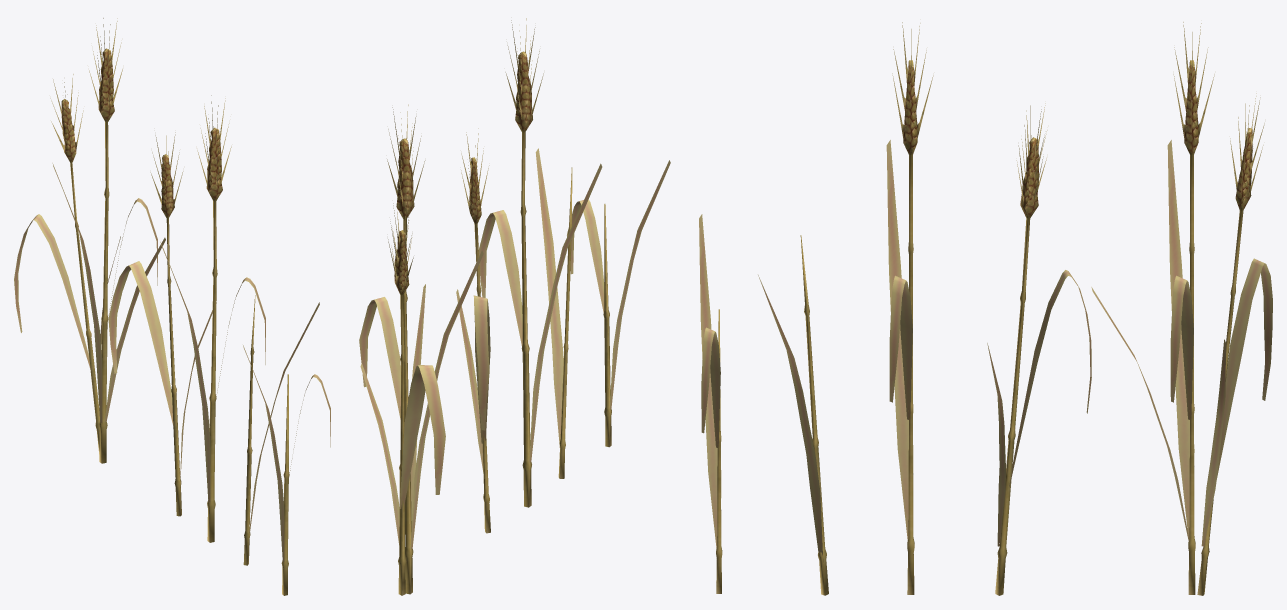
Rendered from realistic_wheat.glb.
The picture shows the model from 3 angles, left to right: view 1: azimuth 30°, elevation 25°; view 2: azimuth 150°, elevation 25°; view 3: azimuth 270°, elevation 25°; orthographic projection. The views are drawn at different scales.
Visible parts, largest first — view 1: Plane.003, Plane.001, Plane, Plane.004, Plane.002; view 2: Plane.003, Plane, Plane.001, Plane.002, Plane.004; view 3: Plane.003, Plane, Plane.001, Plane.004, Plane.002.
Part boxes in pixels (x1,y1,x2,y2): Plane.003: (14,18,165,463); Plane.001: (108,132,216,516); Plane: (160,95,265,542); Plane.004: (243,345,330,595); Plane.002: (243,295,319,565); Plane.003: (359,104,483,595); Plane: (479,18,602,507); Plane.001: (456,128,490,533); Plane.002: (535,148,572,478); Plane.004: (567,160,670,447); Plane.003: (1091,22,1272,595); Plane: (886,22,933,594); Plane.001: (987,103,1091,595); Plane.004: (699,214,722,593); Plane.002: (758,235,828,595).
Size of the model in its own units: 7.32 by 27.74 by 24.97.
Materials: 1 (1 with a texture image).
